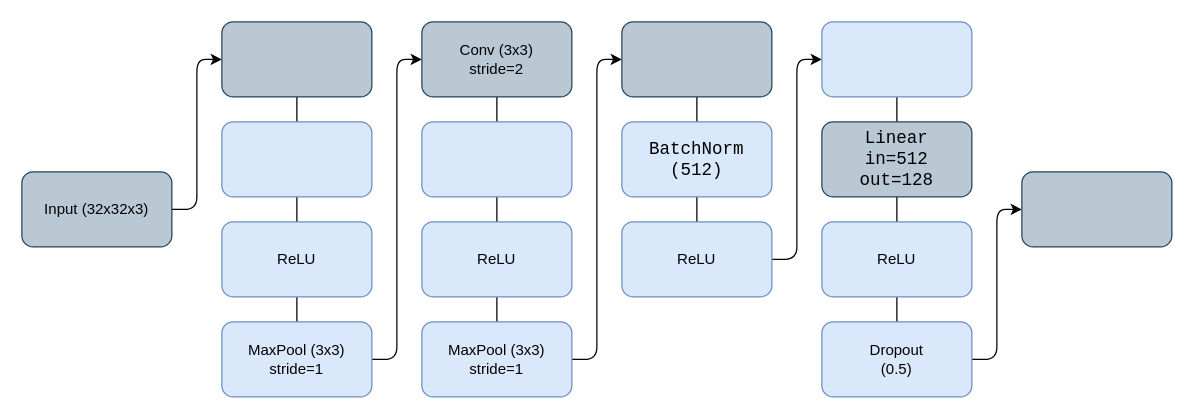
This 1194x419 diagram has some shape labels left out. The shapes that lost their labels are listed below. From the top down, each one's box as (x1, y1, x2, y2) in pixels, then its label:
(221, 21, 372, 97): Conv (5x5) stride=2
(621, 21, 772, 97): Conv (3x3) stride=1
(821, 21, 972, 97): Flatten
(221, 121, 372, 197): BatchNorm (128)
(421, 121, 572, 197): BatchNorm (256)
(1021, 171, 1172, 247): Linear in=128 out=10
